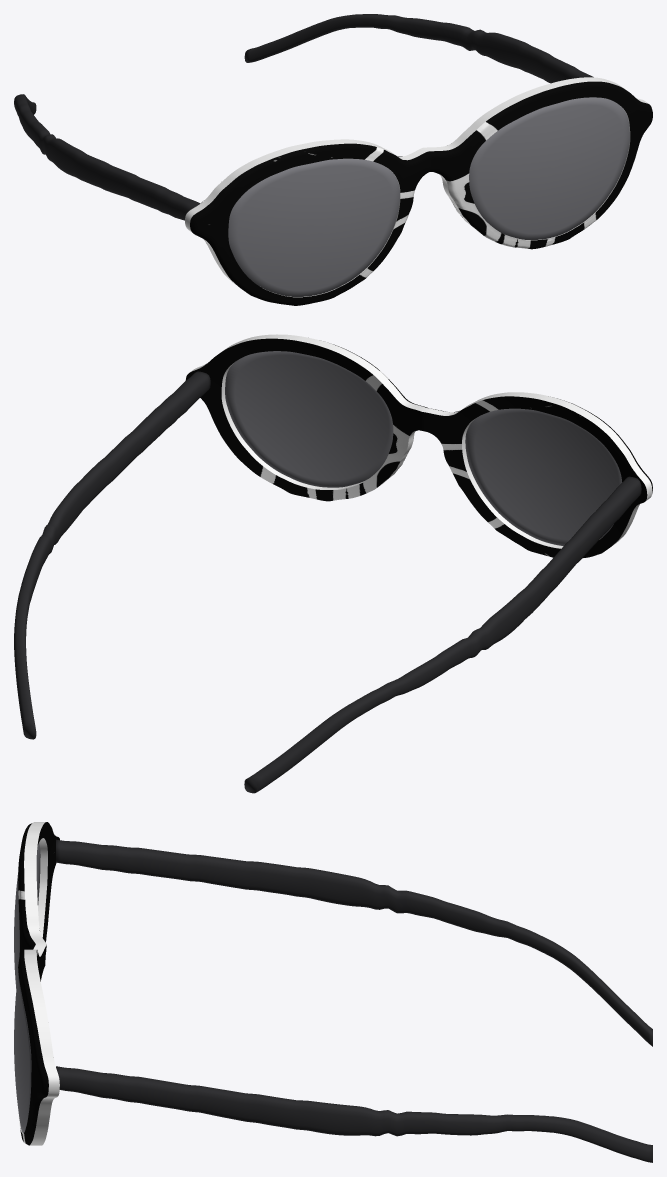
3 views of the same model, one above another, from view 1: azimuth 30°, elevation 25°; view 2: azimuth 150°, elevation 25°; view 3: azimuth 270°, elevation 25° (orthographic). The views are drawn at different scales.
Parts seen in each view (by area): view 1: Front, Lens_L, Lens_R, Temple_R, Temple_L; view 2: Front, Lens_R, Lens_L, Temple_L, Temple_R; view 3: Temple_L, Temple_R, Front, Lens_R, Lens_L.
Boxes of the visible parts, x1,y1,x2,y2 form: Front: (185,77,652,305); Lens_L: (228,158,399,296); Lens_R: (469,97,629,239); Temple_R: (244,14,593,83); Temple_L: (14,94,199,220); Front: (185,334,652,557); Lens_R: (225,351,393,487); Lens_L: (465,408,622,545); Temple_L: (244,476,641,793); Temple_R: (14,371,210,739); Temple_L: (56,839,652,1046); Temple_R: (56,1066,652,1162); Front: (18,822,59,1145); Lens_R: (14,973,31,1133); Lens_L: (14,843,40,988).
Size of the model in its own units: 0.1334 by 0.0511 by 0.1487.
Materials: 4 (1 with a texture image).
